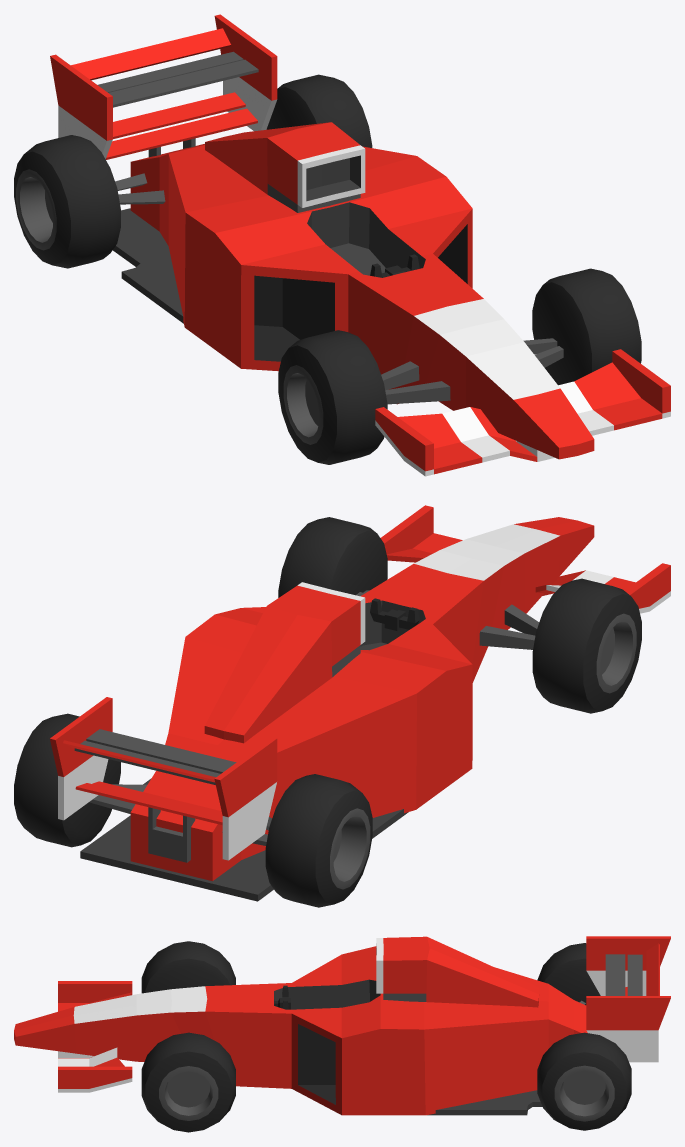
The model's file is F1_car_withWheels.fbx.
The picture shows the model from 3 angles, top to bottom: view 1: azimuth 30°, elevation 25°; view 2: azimuth 150°, elevation 25°; view 3: azimuth 270°, elevation 25°; orthographic projection. The views are drawn at different scales.
Visible parts, largest first — view 1: f1_body, wheel_f_R, Wheel_b_R, wheel_f_L, wheel_b_L; view 2: f1_body, wheel_f_R, Wheel_b_R, wheel_b_L, wheel_f_L; view 3: f1_body, wheel_f_L, wheel_b_L, wheel_f_R, Wheel_b_R.
Part boxes in pixels (left/top/right/bottom): f1_body: left=50, top=14, right=670, bottom=476; wheel_f_R: left=278, top=330, right=387, bottom=464; Wheel_b_R: left=14, top=135, right=120, bottom=268; wheel_f_L: left=532, top=268, right=641, bottom=385; wheel_b_L: left=266, top=74, right=372, bottom=147; f1_body: left=50, top=505, right=670, bottom=901; wheel_f_R: left=532, top=578, right=641, bottom=713; Wheel_b_R: left=265, top=774, right=372, bottom=907; wheel_b_L: left=14, top=713, right=120, bottom=847; wheel_f_L: left=278, top=517, right=387, bottom=597; f1_body: left=14, top=936, right=670, bottom=1115; wheel_f_L: left=141, top=1032, right=235, bottom=1132; wheel_b_L: left=537, top=1032, right=631, bottom=1130; wheel_f_R: left=141, top=941, right=235, bottom=993; Wheel_b_R: left=537, top=943, right=600, bottom=1005.
Size of the model in its own units: 450 by 245 by 1100.
